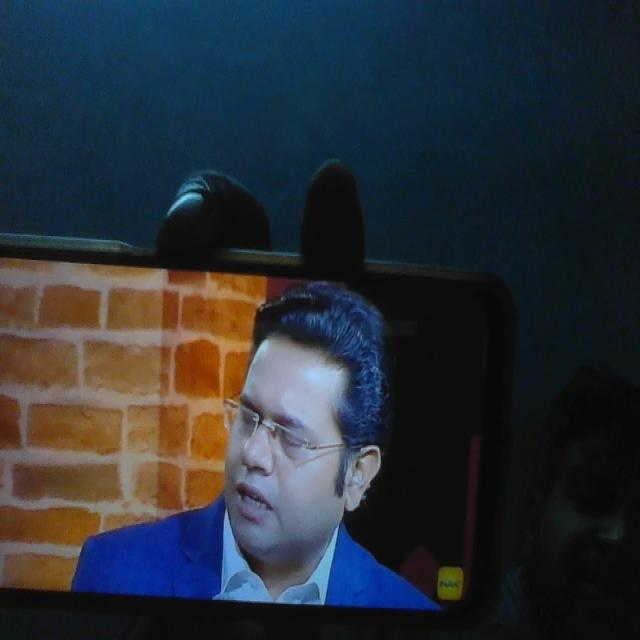fake: (218, 296, 363, 569)
